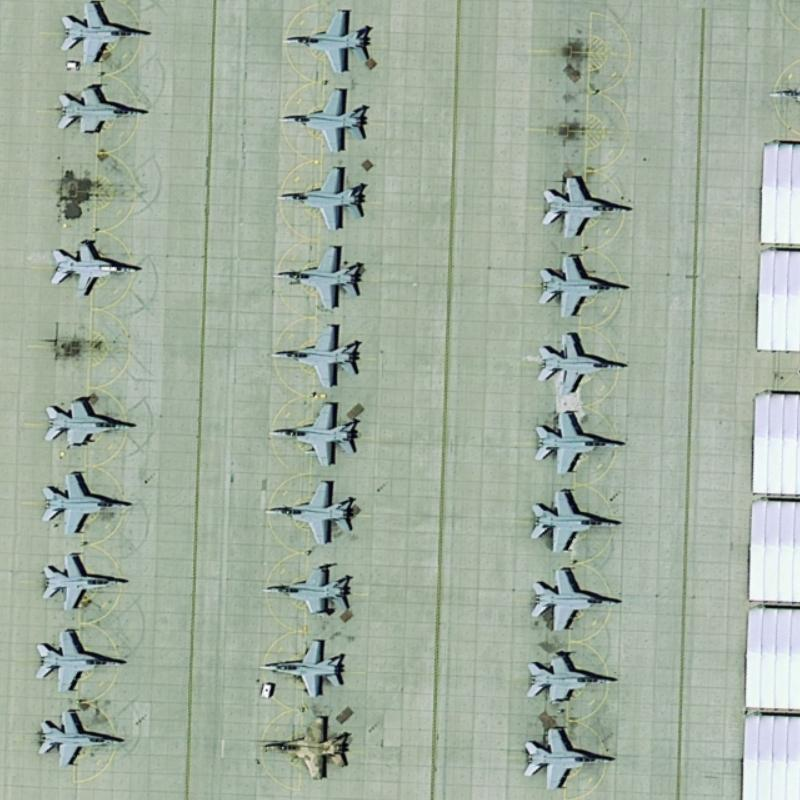A16: (272, 80, 374, 157), (261, 394, 364, 470), (528, 249, 630, 325), (523, 560, 625, 636), (538, 167, 638, 244), (43, 227, 144, 302), (513, 721, 619, 792), (523, 483, 626, 556), (259, 319, 361, 392), (264, 242, 366, 314), (256, 708, 351, 785), (530, 328, 631, 400), (528, 406, 630, 477), (255, 554, 359, 623), (258, 476, 359, 547), (281, 6, 381, 77), (31, 622, 131, 693), (54, 0, 156, 69), (37, 387, 142, 454), (272, 163, 370, 233), (36, 467, 134, 536), (248, 635, 347, 703), (51, 78, 150, 143), (31, 705, 128, 771), (37, 547, 131, 615), (519, 644, 619, 705)
